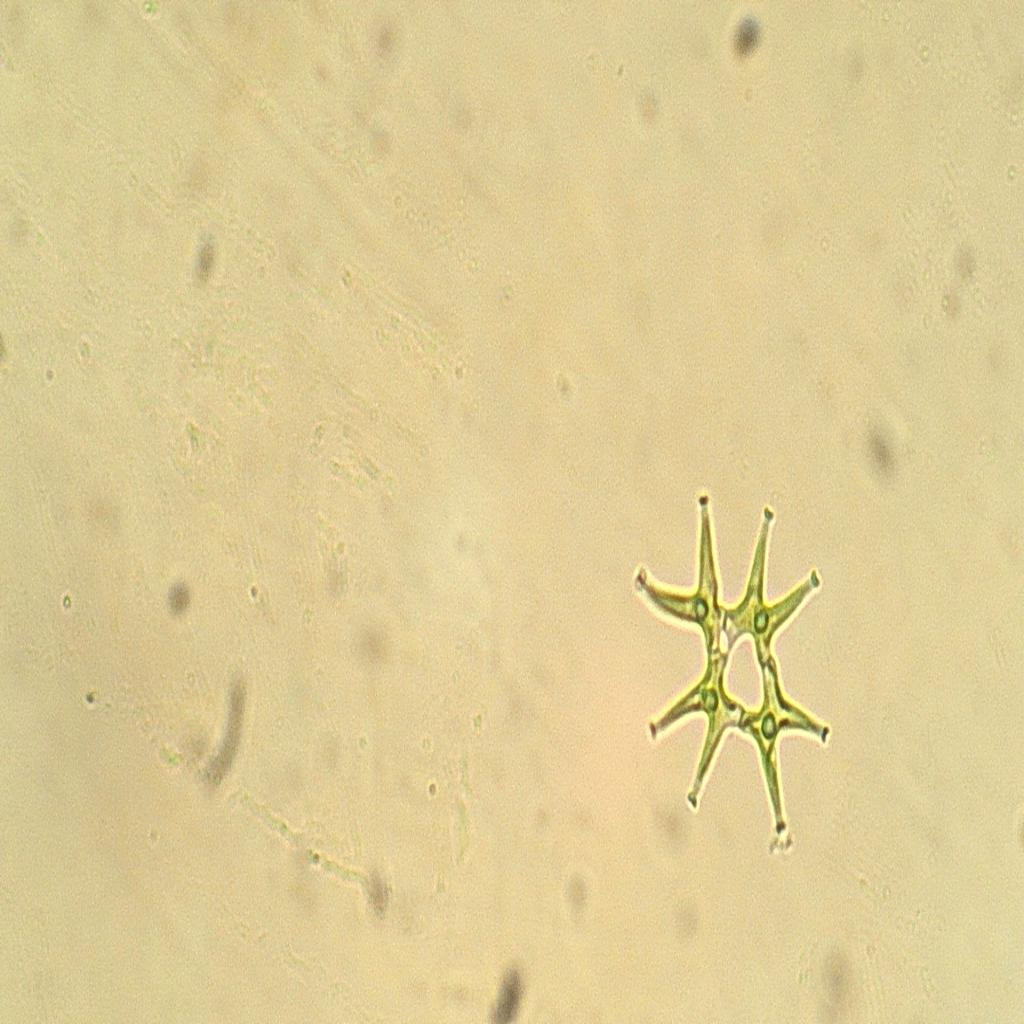Pediastrum_CT: (616, 476, 836, 883)
